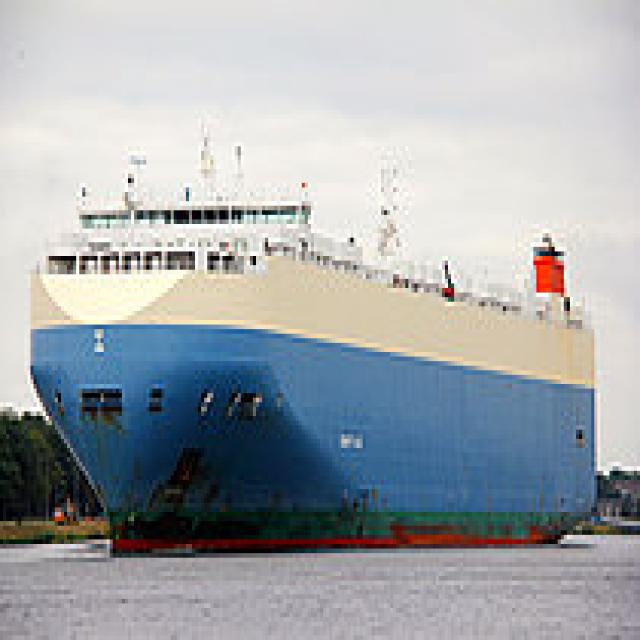Carrier: (21, 114, 598, 558)
